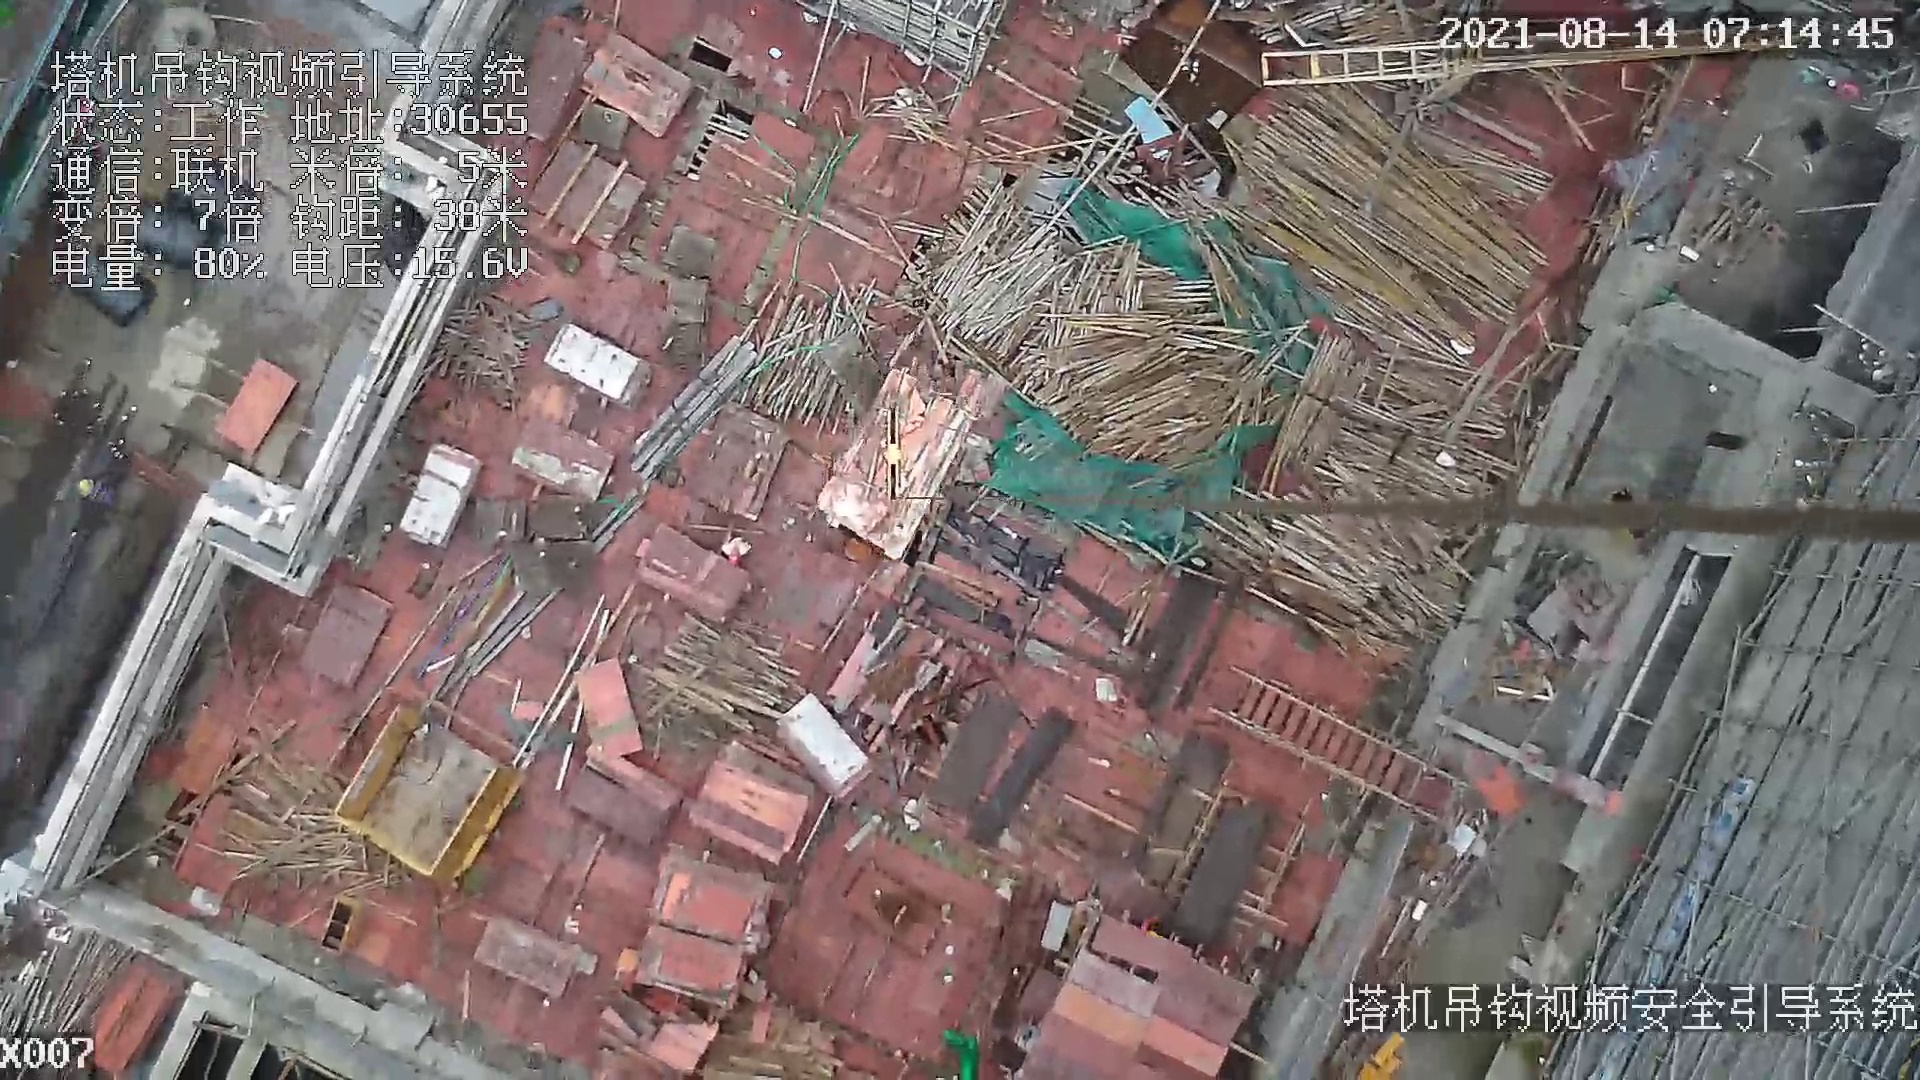hook: (874, 401, 909, 505)
